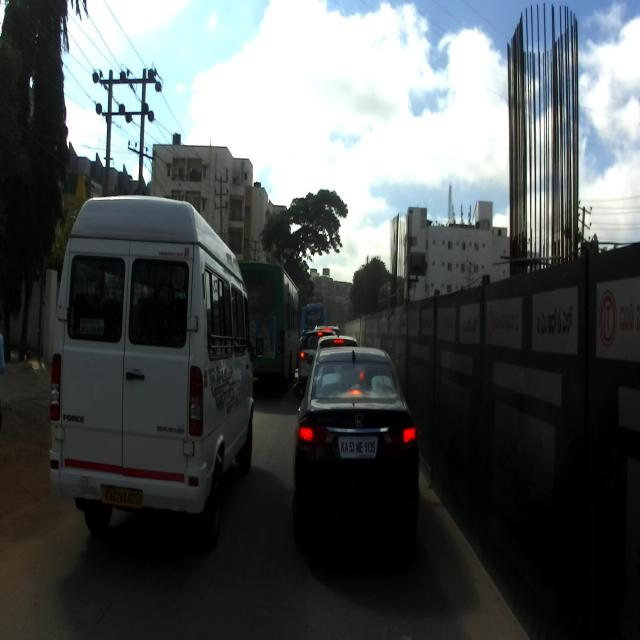car: (292, 346, 419, 550)
mini-bus: (50, 195, 263, 546)
